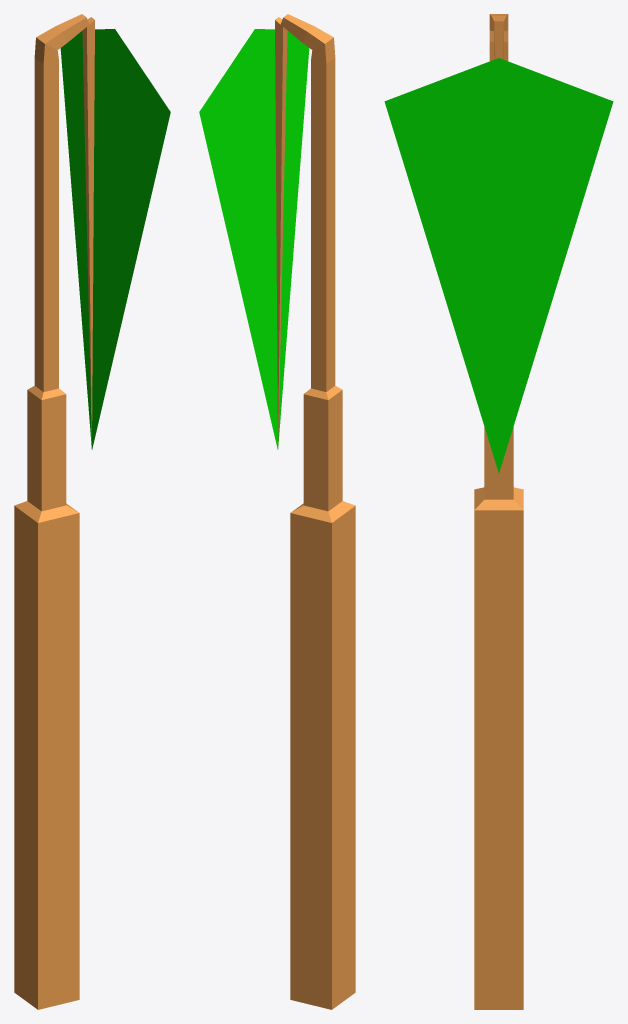
Rendered from flag3.fbx.
3 renders of one model, left to right at view 1: azimuth 30°, elevation 25°; view 2: azimuth 150°, elevation 25°; view 3: azimuth 270°, elevation 25°, orthographic. The views are drawn at different scales.
Visible parts, largest first — view 1: Pole; view 2: Pole; view 3: Pole.
Part boxes in pixels (x1,y1,x2,y2): Pole: [14, 14, 170, 1009]; Pole: [199, 14, 355, 1009]; Pole: [384, 14, 613, 1009].
Size of the model in its own units: 38.21 by 399 by 83.07.
1 material, 1 textured.
